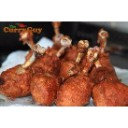chicken_lollipop: (2, 36, 34, 109), (91, 52, 128, 106), (61, 50, 96, 105), (32, 45, 58, 108)
